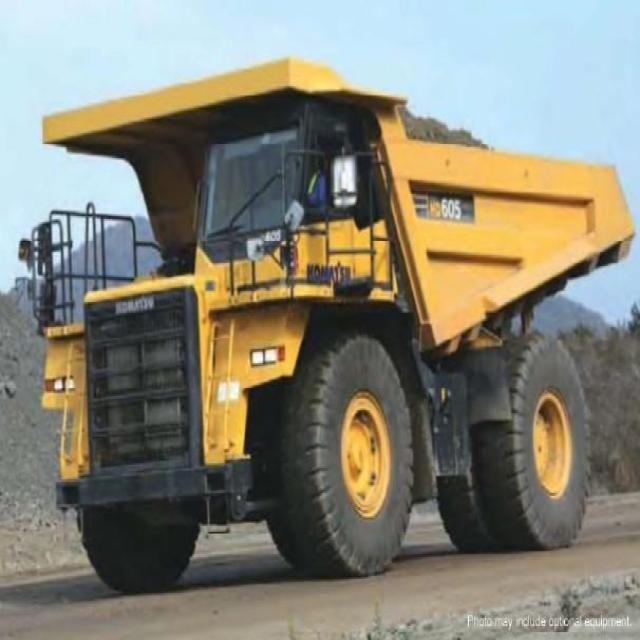dump_truck: (22, 52, 635, 560)
